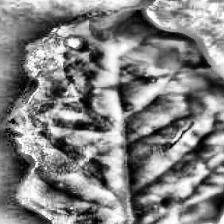disease: (6, 0, 224, 224)
